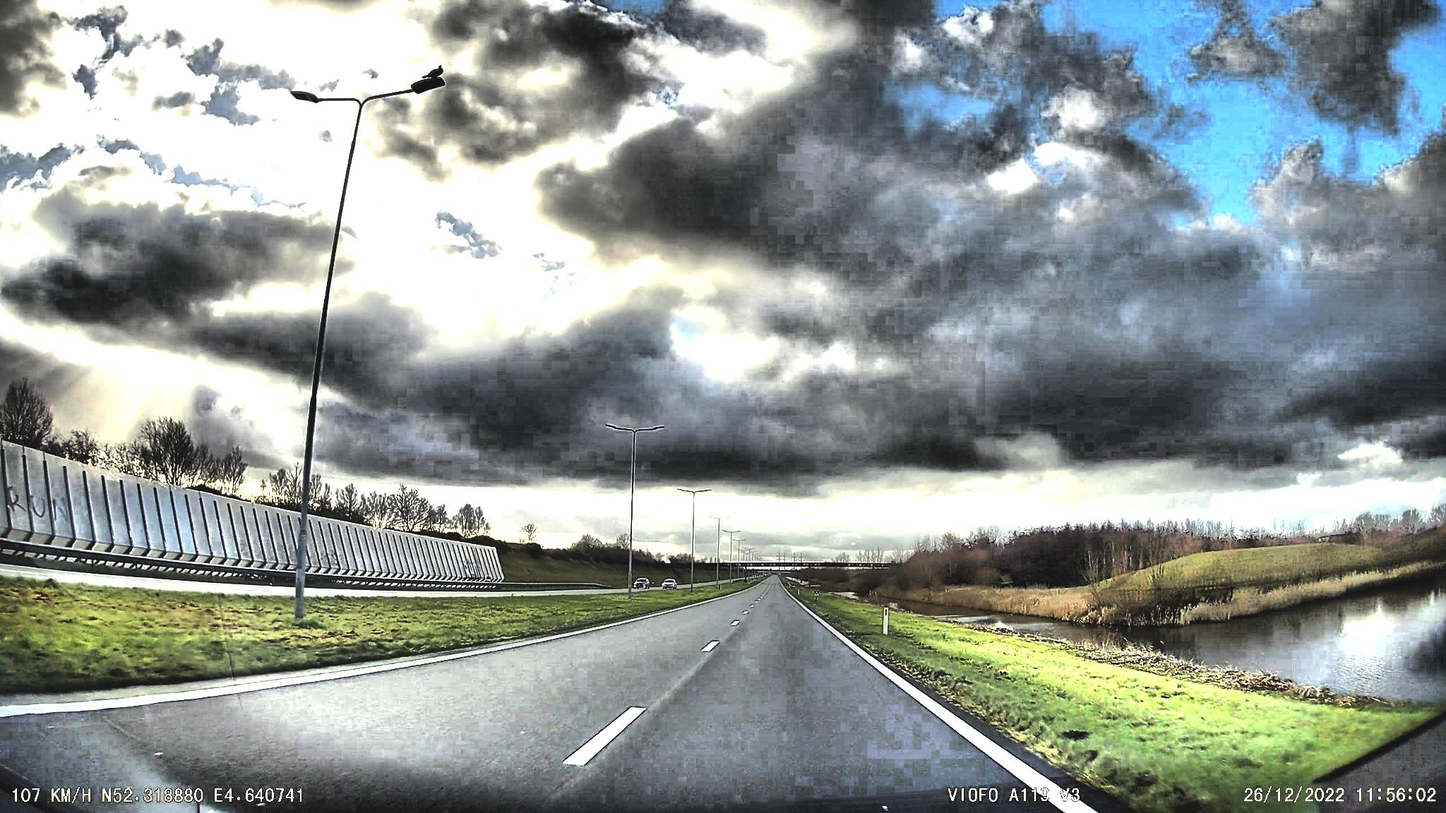Roads: (0, 583, 1110, 813)
